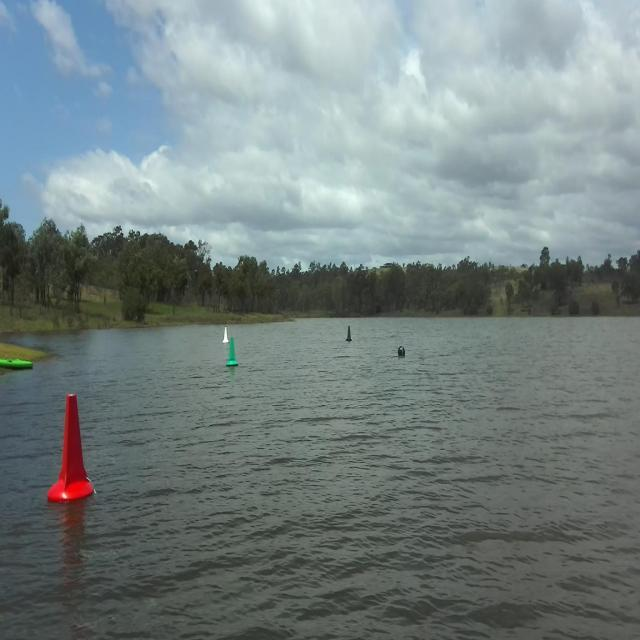Black_Buoy: (344, 322, 354, 344), (396, 344, 407, 359)
Green_Buoy: (226, 342, 237, 368)
Red_Buoy: (46, 389, 94, 515)
White_Buoy: (218, 326, 230, 343)
